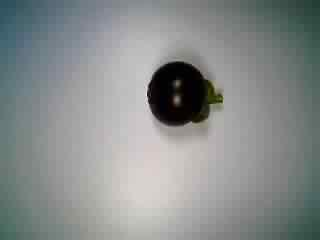mangosteen: (144, 56, 227, 133)
